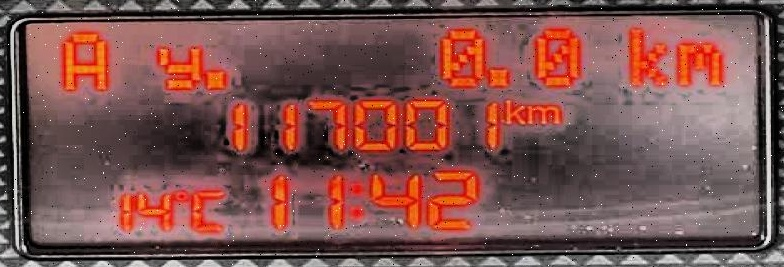-: (202, 67, 227, 91), (486, 63, 510, 88)
0: (528, 24, 582, 90), (431, 23, 485, 88), (350, 95, 400, 154), (401, 95, 448, 151)
1: (257, 171, 291, 230), (313, 171, 344, 230), (271, 97, 301, 151), (222, 98, 251, 153), (472, 97, 502, 150), (112, 188, 134, 233)
2: (425, 166, 480, 231)
4: (364, 170, 421, 229), (135, 188, 172, 231)
7: (304, 96, 348, 153)
X: (55, 27, 112, 92), (624, 22, 669, 87), (672, 38, 725, 86), (151, 42, 201, 91), (189, 186, 226, 232), (525, 102, 562, 126), (501, 95, 525, 126), (346, 178, 362, 222)
